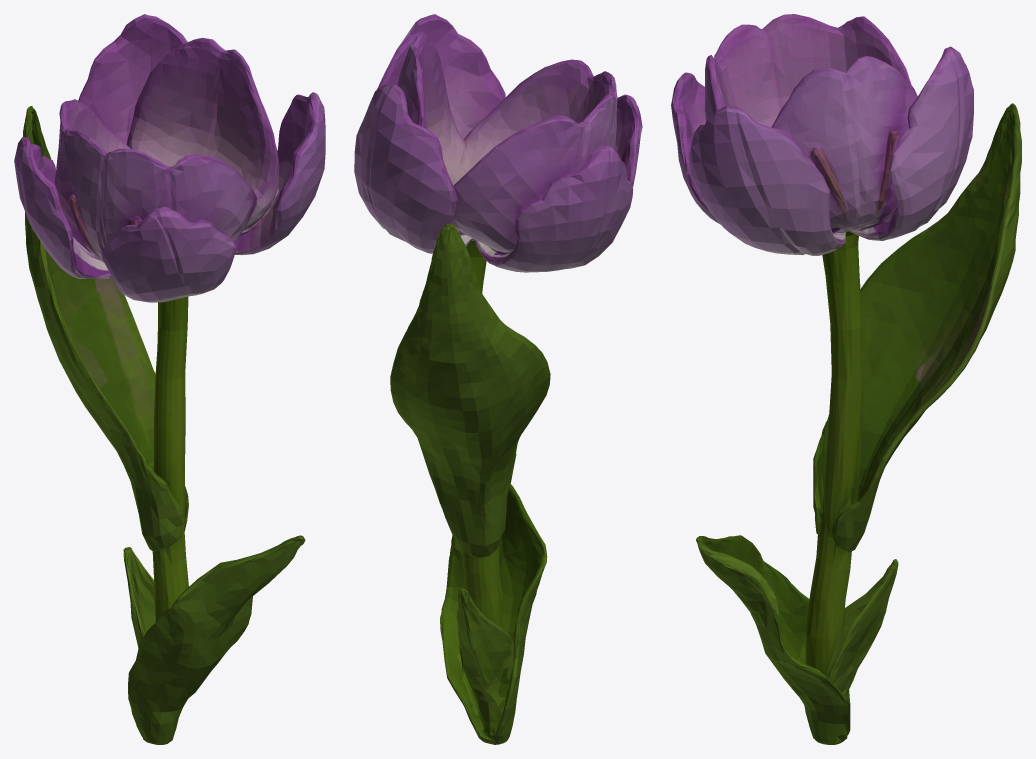
Rendered from Rosa.glb.
3 renders of one model, left to right at view 1: azimuth 30°, elevation 25°; view 2: azimuth 150°, elevation 25°; view 3: azimuth 270°, elevation 25°, orthographic. The views are drawn at different scales.
Visible parts, largest first — view 1: tripo_node_af9c99a3-bd99-4d88-a3a5-54d6df8ad992; view 2: tripo_node_af9c99a3-bd99-4d88-a3a5-54d6df8ad992; view 3: tripo_node_af9c99a3-bd99-4d88-a3a5-54d6df8ad992.
Part boxes in pixels (x1=…): tripo_node_af9c99a3-bd99-4d88-a3a5-54d6df8ad992: x1=14, y1=14, x2=325, y2=744; tripo_node_af9c99a3-bd99-4d88-a3a5-54d6df8ad992: x1=354, y1=14, x2=642, y2=744; tripo_node_af9c99a3-bd99-4d88-a3a5-54d6df8ad992: x1=671, y1=14, x2=1021, y2=744.
Bounding box in the file's own units: 0.319 × 0.8015 × 0.3567.
Materials: 1 (1 with a texture image).
